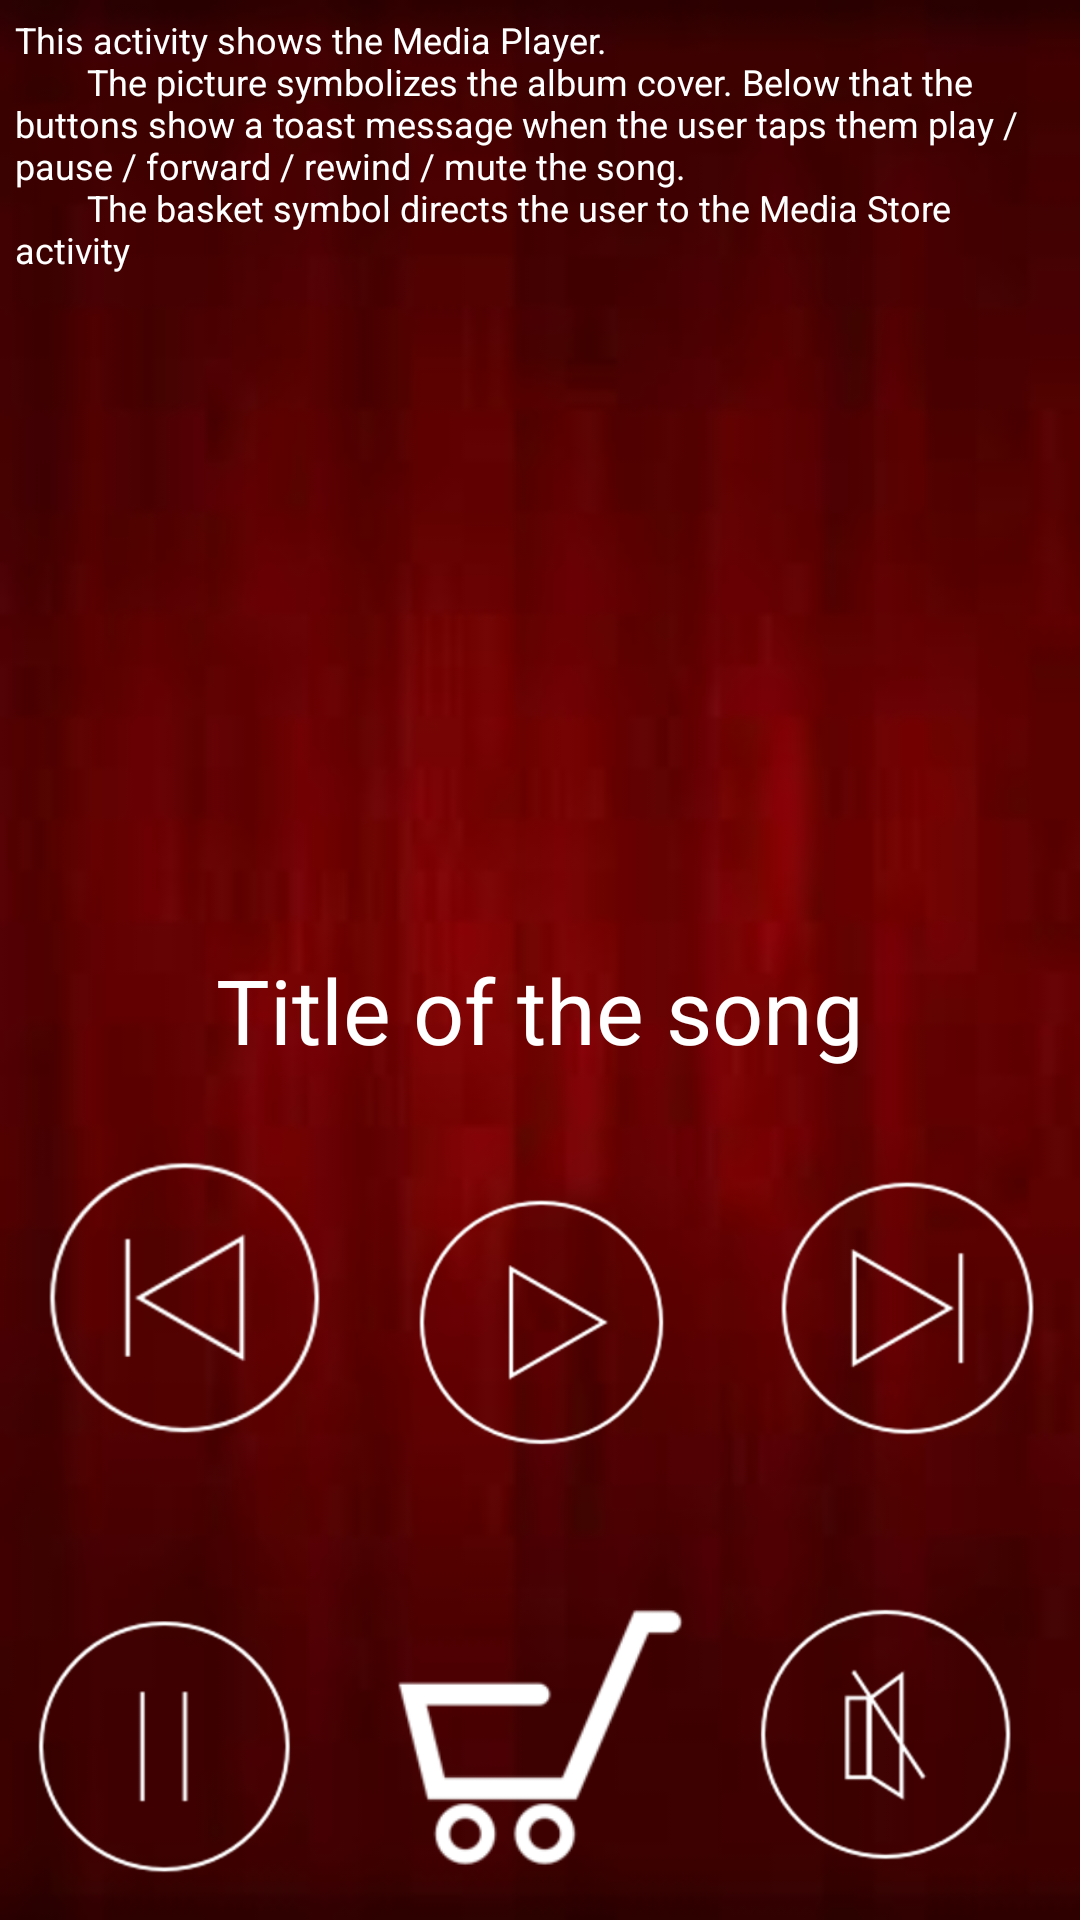

Screen size 1080px×1920px. Icon name, then its center in pixels as [x,y]:
basket: [540,1765]
mute: [885,1764]
pause: [150,1770]
